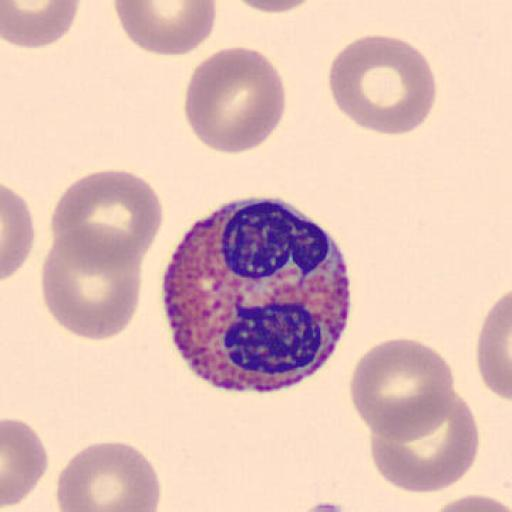RBC: (40, 226, 142, 342), (327, 32, 438, 137), (368, 390, 480, 494), (49, 168, 164, 268), (348, 336, 456, 442), (182, 45, 286, 155), (55, 438, 162, 512), (113, 0, 218, 56), (1, 415, 50, 510), (476, 289, 512, 404), (2, 0, 81, 49), (2, 182, 36, 283), (429, 492, 512, 511), (228, 1, 322, 15)
WBC: (162, 196, 353, 394)
